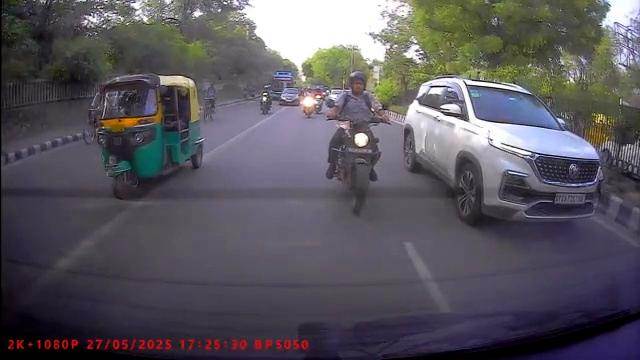motorcycle_with_helmet: (323, 69, 389, 217)
